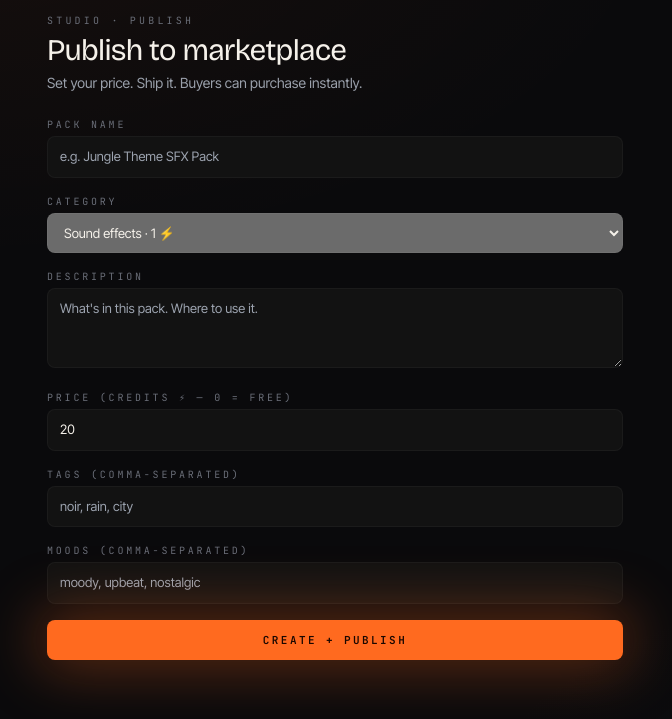
Test: StudioPublish › submit button shows loading state while publishing
Type "My Pack" into the field with test id "publish-title" at (335, 157), box 47,136 -> 623,178
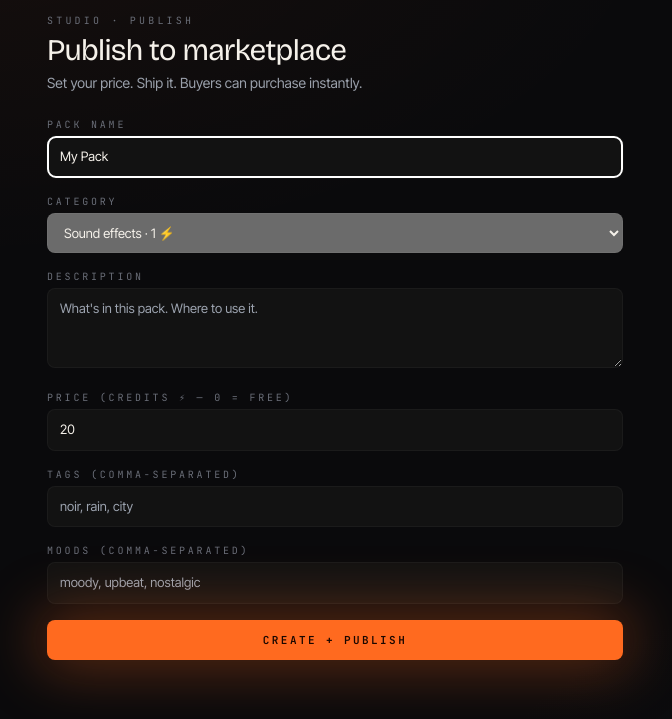
Click the button with test id "publish-submit" at (335, 640), box 47,620 -> 623,660
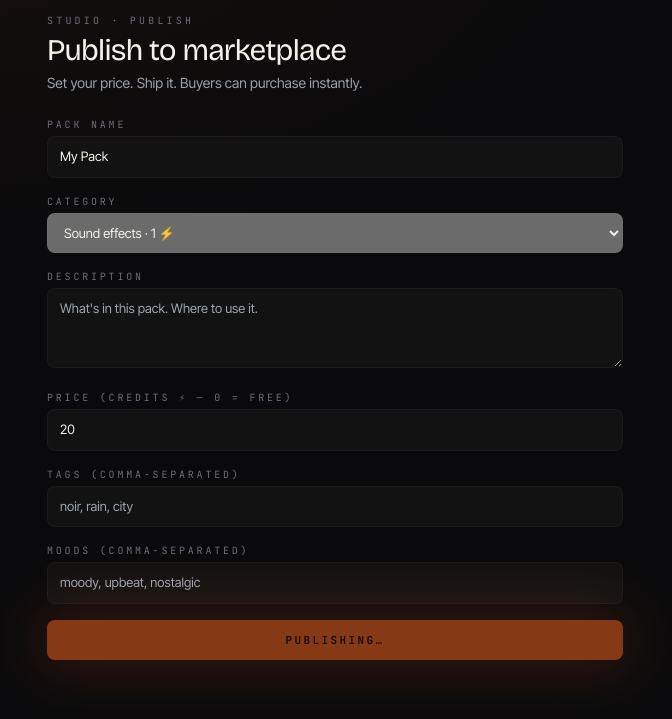
Expected: the button with test id "publish-submit" is disabled, 47,620 -> 623,660
